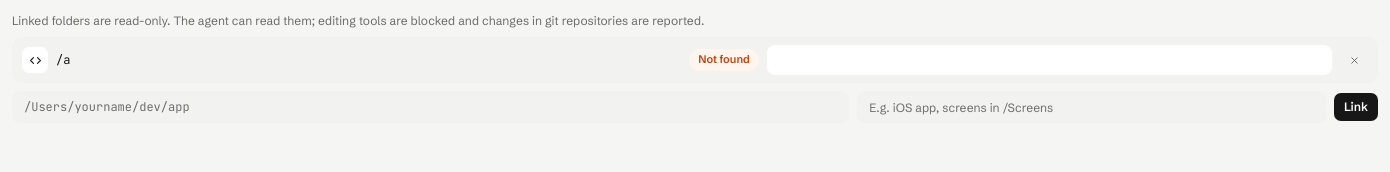
Test case: shared components in English › explains codebase errors
This screenshot has width=1390, height=172.
expect the text "Not found" is shown: met, box [689, 49, 759, 71]
Type "rel" into the field named "Absolute folder path" at [431, 107], box [12, 91, 849, 123]
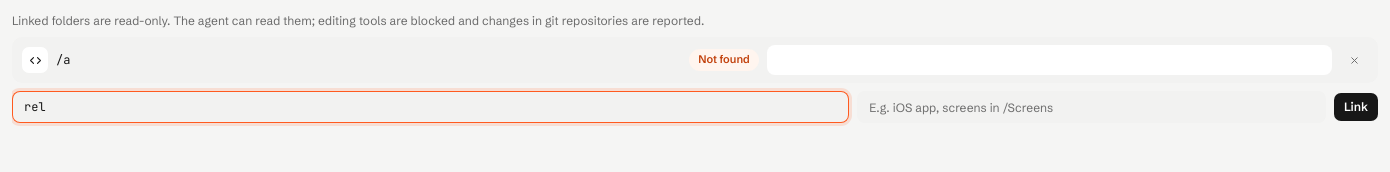
Click the button "Link" at [1356, 107], box [1334, 93, 1378, 121]
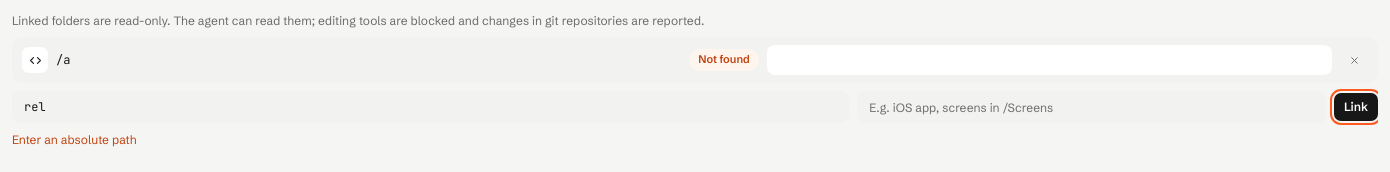
expect the message reads "Enter an absolute path": met, box [12, 132, 136, 147]
